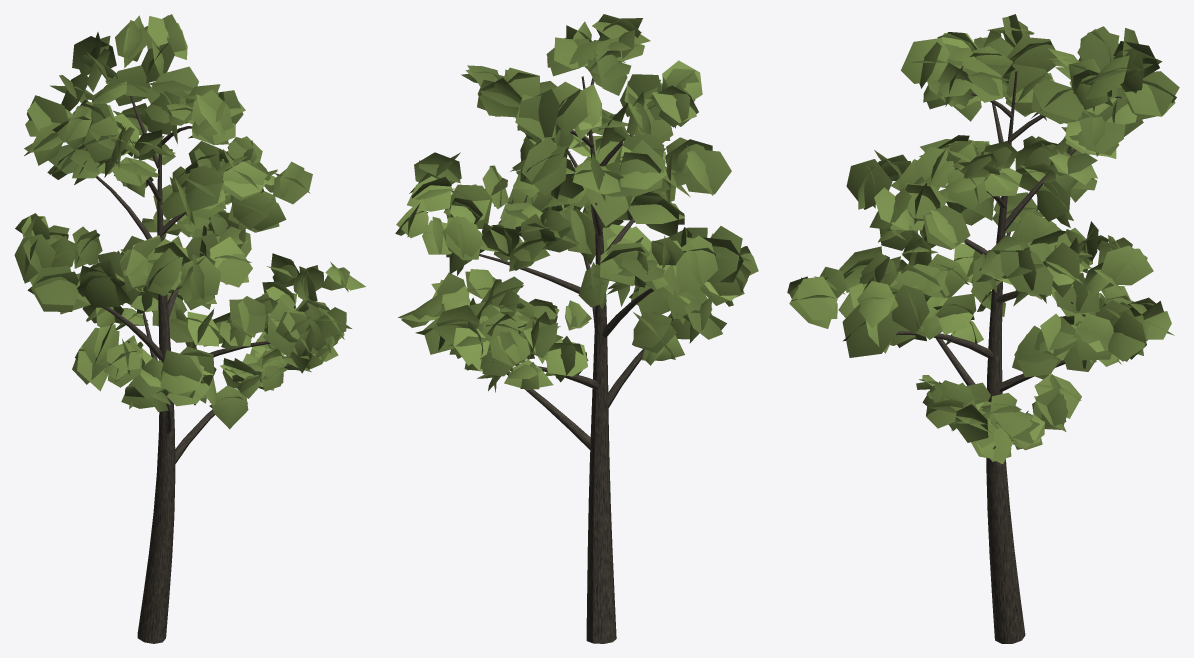
File: young_05_lod1.glb
The picture shows the model from 3 angles, left to right: view 1: azimuth 30°, elevation 25°; view 2: azimuth 150°, elevation 25°; view 3: azimuth 270°, elevation 25°; orthographic projection. The views are drawn at different scales.
Parts seen in each view (by area): view 1: individual_curved_leaf_sprigs, retained_branches_0; view 2: individual_curved_leaf_sprigs, retained_branches_0; view 3: individual_curved_leaf_sprigs, retained_branches_0.
Part boxes in pixels (x1,y1,x2,y2): individual_curved_leaf_sprigs: (14, 14, 365, 429); retained_branches_0: (95, 96, 291, 643); individual_curved_leaf_sprigs: (395, 14, 758, 392); retained_branches_0: (479, 76, 653, 643); individual_curved_leaf_sprigs: (787, 14, 1179, 464); retained_branches_0: (896, 71, 1121, 643).
Size of the model in its own units: 4.51 by 7.89 by 4.59.
2 materials, 1 textured.
